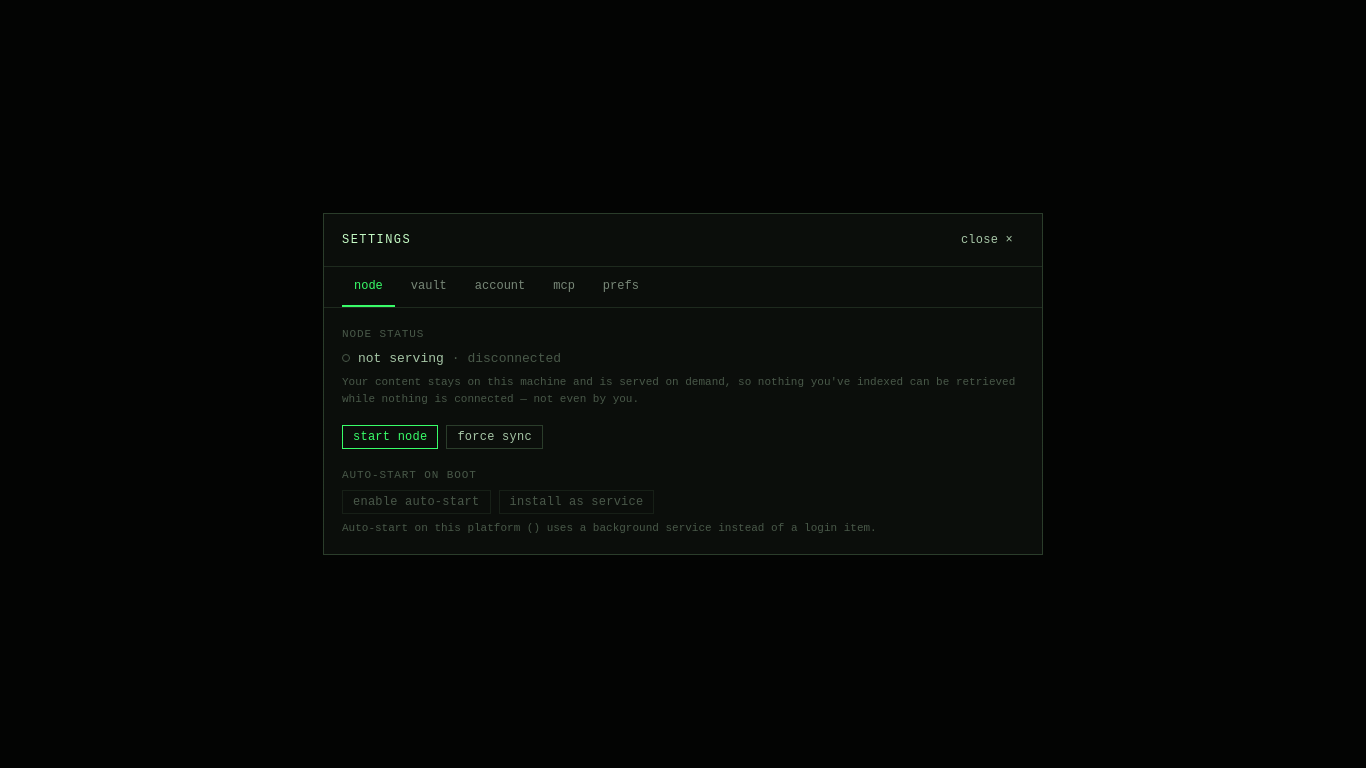
Test case: Settings · low-balance warning › renders the server message verbatim
The image size is (1366, 768).
Click the text "account" at (500, 286), box left=475, top=279, right=525, bottom=293
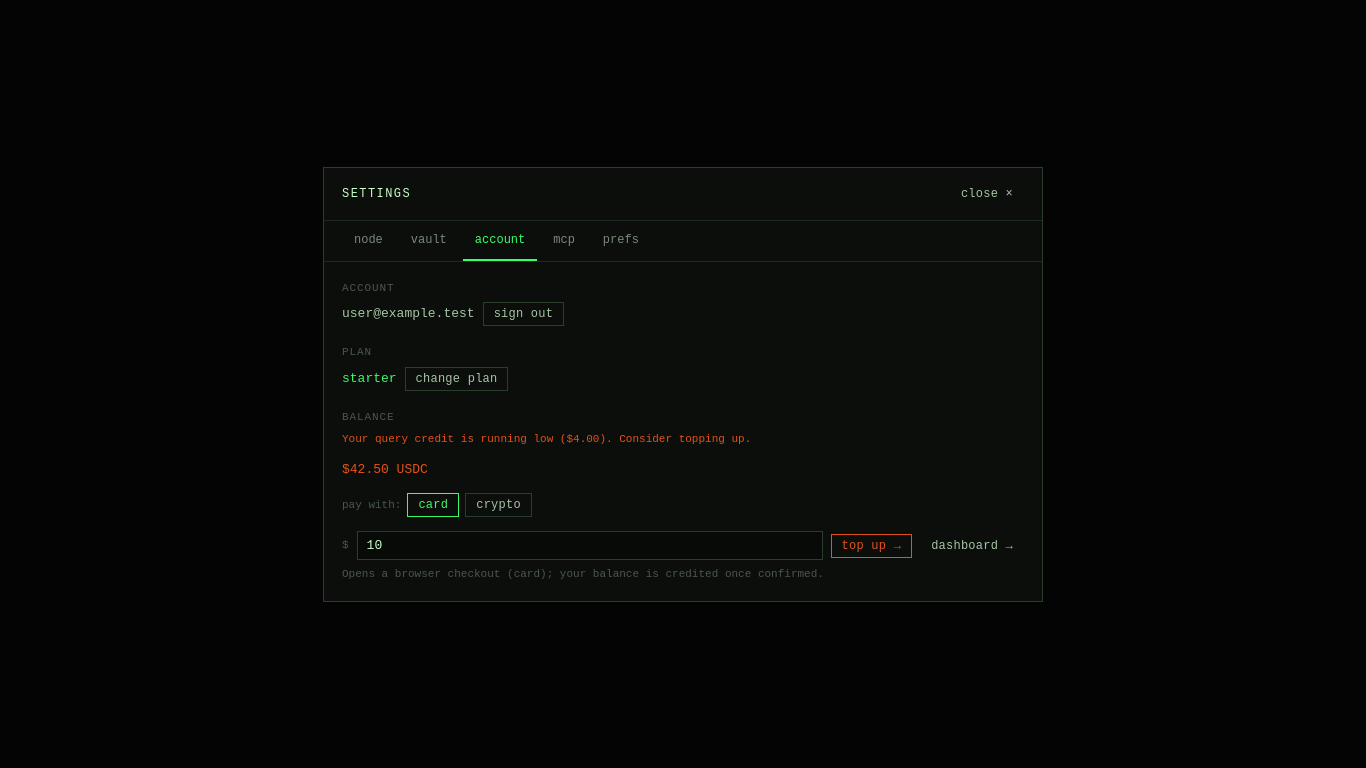
Expected: the button "top up →" is shown, left=831, top=534, right=912, bottom=558
Expected: the message reads "Your query credit is running low ($4.00). Consider topping up.", left=342, top=433, right=751, bottom=445
